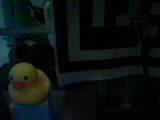duck: (4, 56, 60, 102)
